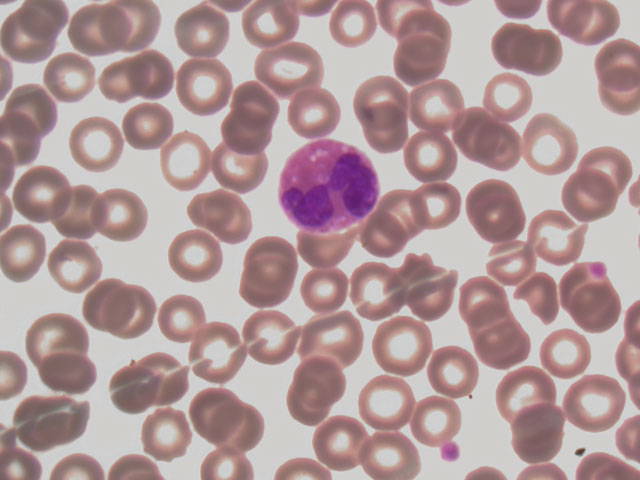Platelets: (436, 438, 462, 464), (590, 257, 610, 278)
RBC: (4, 82, 60, 136), (42, 52, 98, 106), (2, 10, 58, 64), (112, 48, 168, 102), (66, 3, 122, 57), (31, 314, 87, 368), (42, 345, 98, 399), (101, 363, 157, 417), (143, 350, 199, 404), (189, 390, 245, 444), (139, 409, 195, 463), (277, 380, 333, 434), (296, 349, 352, 403), (316, 416, 372, 470), (363, 426, 419, 480), (356, 374, 412, 428), (375, 313, 431, 367), (430, 344, 486, 398), (410, 393, 466, 447), (1, 222, 56, 276), (111, 1, 167, 54), (285, 86, 339, 136), (355, 107, 409, 157), (354, 72, 408, 122), (410, 80, 464, 130), (450, 103, 504, 153), (471, 124, 525, 174), (521, 123, 575, 173), (483, 73, 537, 123), (511, 26, 565, 76), (489, 22, 543, 72), (389, 36, 443, 86), (396, 7, 450, 57), (261, 42, 315, 92), (175, 7, 229, 57), (175, 59, 229, 109), (230, 77, 284, 127), (220, 110, 274, 160), (211, 138, 265, 188), (160, 136, 214, 186), (125, 101, 179, 151), (70, 118, 124, 168), (14, 167, 68, 217), (54, 187, 108, 237), (92, 189, 146, 239), (168, 229, 222, 279), (196, 189, 250, 239), (244, 233, 298, 283), (241, 262, 295, 312), (296, 265, 350, 315), (351, 268, 405, 318), (401, 265, 455, 315), (462, 278, 516, 328), (473, 310, 527, 360), (493, 369, 547, 419), (512, 410, 566, 460), (568, 376, 622, 426), (539, 328, 593, 378), (569, 276, 623, 326), (511, 274, 565, 324), (483, 240, 537, 290), (530, 212, 584, 262), (473, 192, 527, 242), (460, 169, 514, 219), (405, 182, 459, 232), (378, 190, 432, 240), (357, 222, 411, 272), (560, 173, 614, 223), (578, 152, 632, 202), (586, 67, 640, 117), (586, 29, 640, 79), (306, 313, 360, 363), (248, 314, 302, 364), (190, 329, 244, 379), (161, 292, 215, 342), (116, 288, 170, 338), (80, 279, 134, 329), (46, 239, 100, 289), (19, 394, 73, 444), (331, 1, 385, 50), (247, 1, 301, 50), (558, 1, 612, 50)
WBC: (280, 136, 381, 241)
